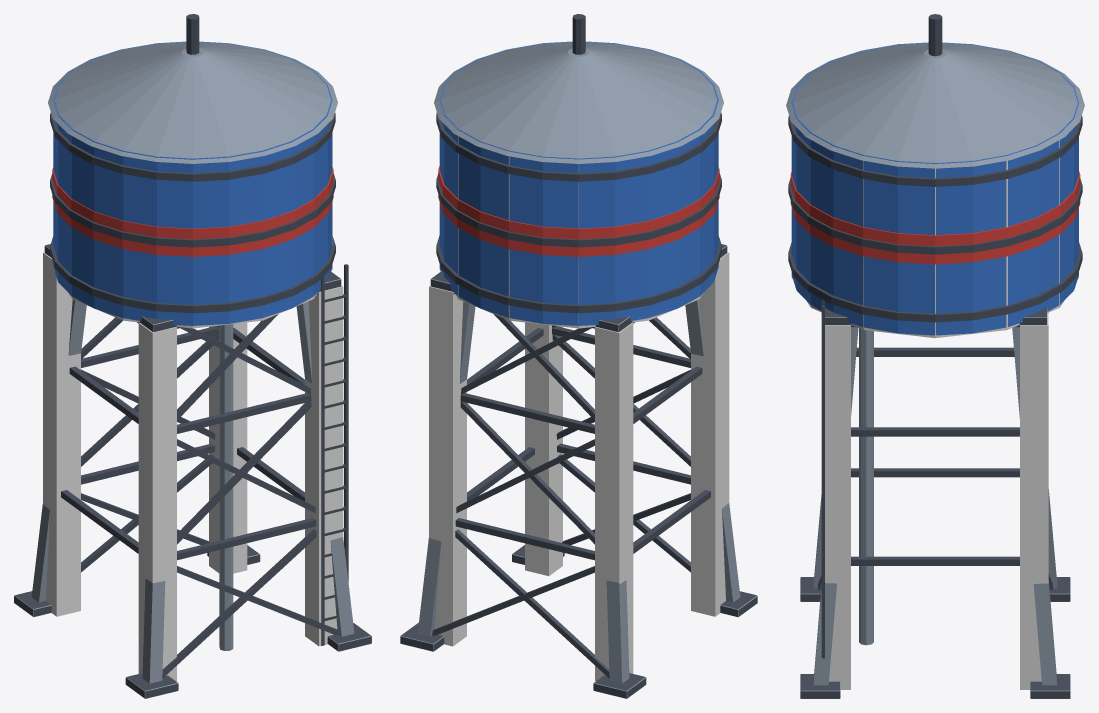
The model's file is bld_watertower_a.glb.
3 views of the same model, side by side, from view 1: azimuth 30°, elevation 25°; view 2: azimuth 150°, elevation 25°; view 3: azimuth 270°, elevation 25° (orthographic). The views are drawn at different scales.
Visible parts, largest first — view 1: bld_watertower_a, COL_bld_watertower_a_1, COL_bld_watertower_a_2, COL_bld_watertower_a_3, COL_bld_watertower_a_4; view 2: bld_watertower_a, COL_bld_watertower_a_2, COL_bld_watertower_a_1, COL_bld_watertower_a_4, COL_bld_watertower_a_3, COL_bld_watertower_a_5; view 3: bld_watertower_a, COL_bld_watertower_a_4, COL_bld_watertower_a_3, COL_bld_watertower_a_5.
Boxes of the visible parts, x1=… form: bld_watertower_a: x1=14, y1=14, x2=371, y2=698; COL_bld_watertower_a_1: x1=138, y1=322, x2=176, y2=681; COL_bld_watertower_a_2: x1=43, y1=252, x2=80, y2=616; COL_bld_watertower_a_3: x1=305, y1=285, x2=343, y2=646; COL_bld_watertower_a_4: x1=209, y1=322, x2=247, y2=573; bld_watertower_a: x1=400, y1=14, x2=757, y2=698; COL_bld_watertower_a_2: x1=595, y1=322, x2=633, y2=681; COL_bld_watertower_a_1: x1=691, y1=252, x2=729, y2=616; COL_bld_watertower_a_4: x1=429, y1=285, x2=466, y2=646; COL_bld_watertower_a_3: x1=525, y1=322, x2=562, y2=575; COL_bld_watertower_a_5: x1=439, y1=136, x2=718, y2=328; bld_watertower_a: x1=786, y1=14, x2=1084, y2=698; COL_bld_watertower_a_4: x1=1020, y1=313, x2=1048, y2=689; COL_bld_watertower_a_3: x1=825, y1=325, x2=850, y2=689; COL_bld_watertower_a_5: x1=791, y1=140, x2=1078, y2=338.
Size of the model in its own units: 5.2 by 12.02 by 5.2.
